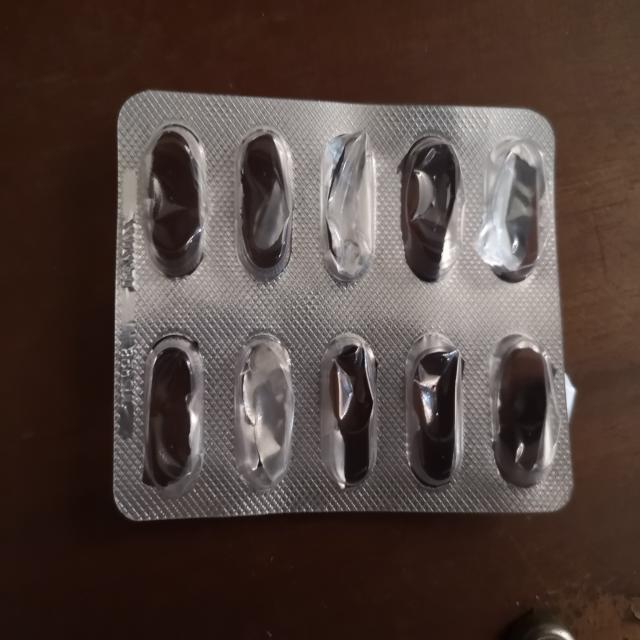Empty: (314, 322, 391, 495), (486, 326, 560, 496), (140, 117, 216, 282), (400, 328, 473, 496), (138, 328, 210, 497), (227, 325, 297, 496), (394, 125, 467, 288), (478, 129, 550, 288), (230, 121, 299, 286), (314, 122, 380, 292)
